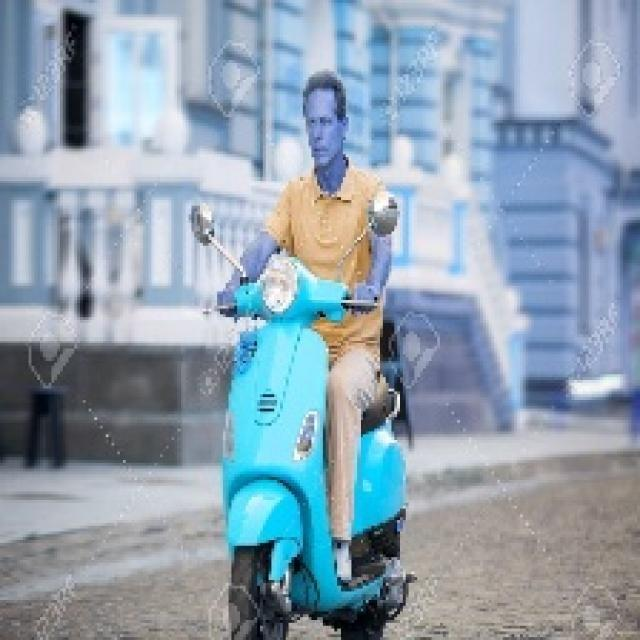Motorcycle: (208, 260, 411, 640)
